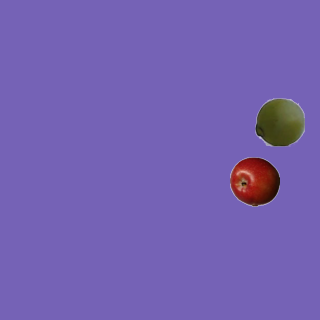Apple Braeburn: (229, 156, 279, 206)
Grape White 4: (254, 96, 304, 146)
